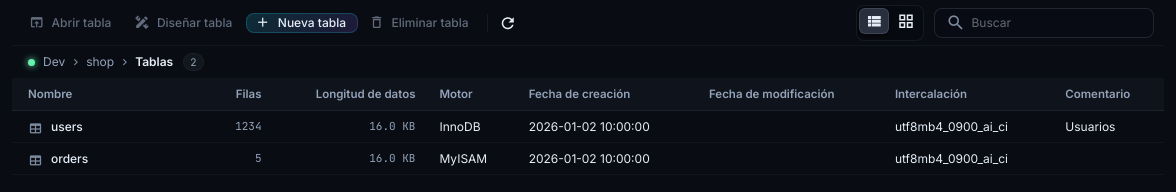
ObjectsView › filters by the search box
In the field with placeholder "Buscar": coordinates (1054, 22) [966, 8, 1142, 38], type "ord"
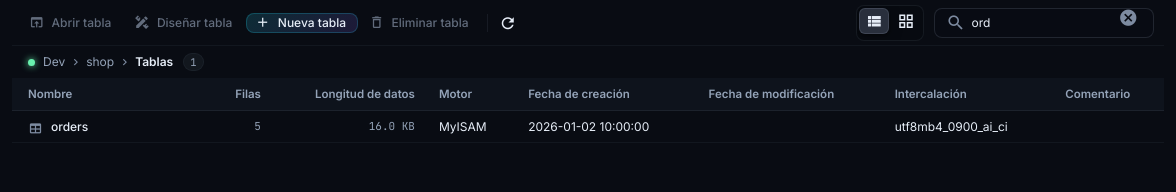
Expected: the row with test id "data-list-row" shows "orders", [51, 118, 88, 134]
Now the number of rows with test id "data-list-row" is 1, box [12, 111, 1164, 143]
